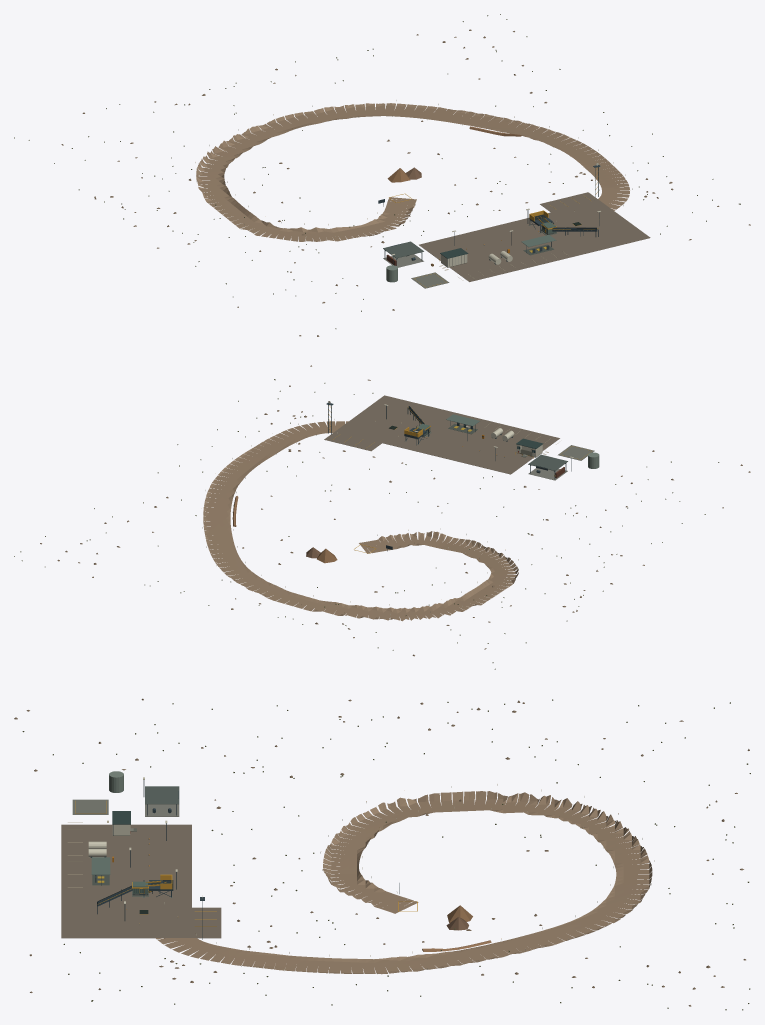
File: site.glb
3 renders of one model, top to bottom at view 1: azimuth 30°, elevation 25°; view 2: azimuth 150°, elevation 25°; view 3: azimuth 270°, elevation 25°, orthographic. The views are drawn at different scales.
Size of the model in its own units: 428 by 54.1 by 429.
